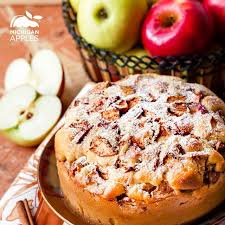apple: (143, 6, 207, 59), (77, 1, 137, 48)
damaged_apple: (3, 88, 64, 149), (7, 51, 68, 101)
